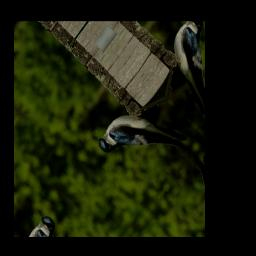Swallow: (94, 87, 191, 197)
